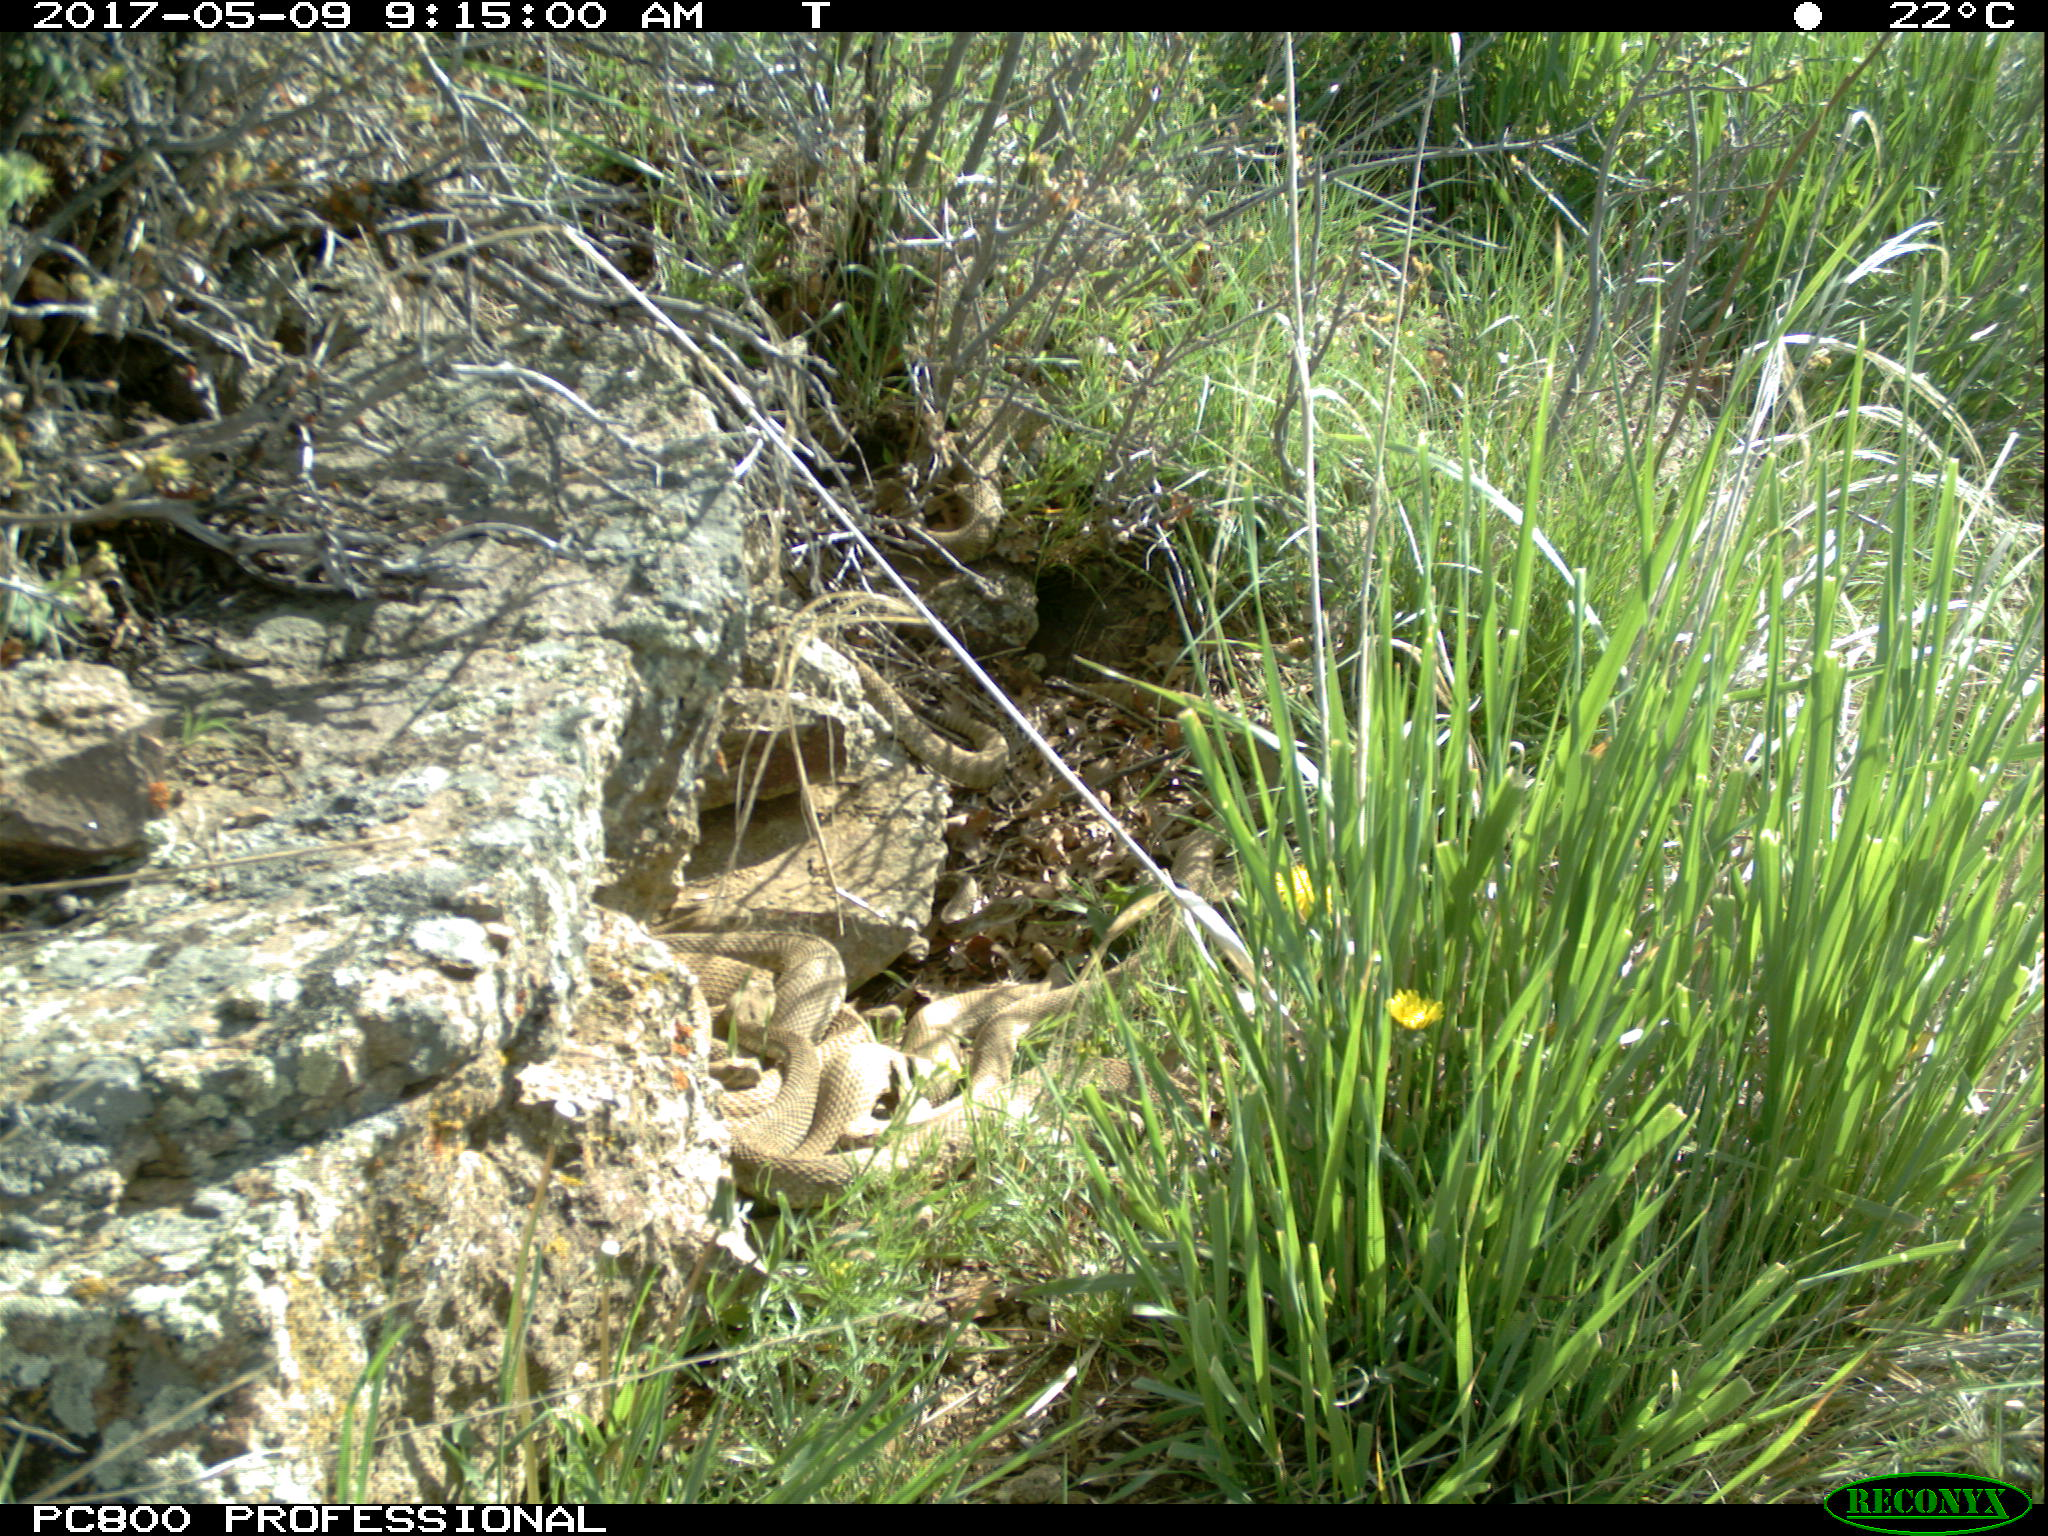snake: (648, 921, 860, 1207), (866, 970, 1085, 1170), (843, 658, 1021, 794), (897, 470, 1026, 570), (1156, 820, 1221, 905)
